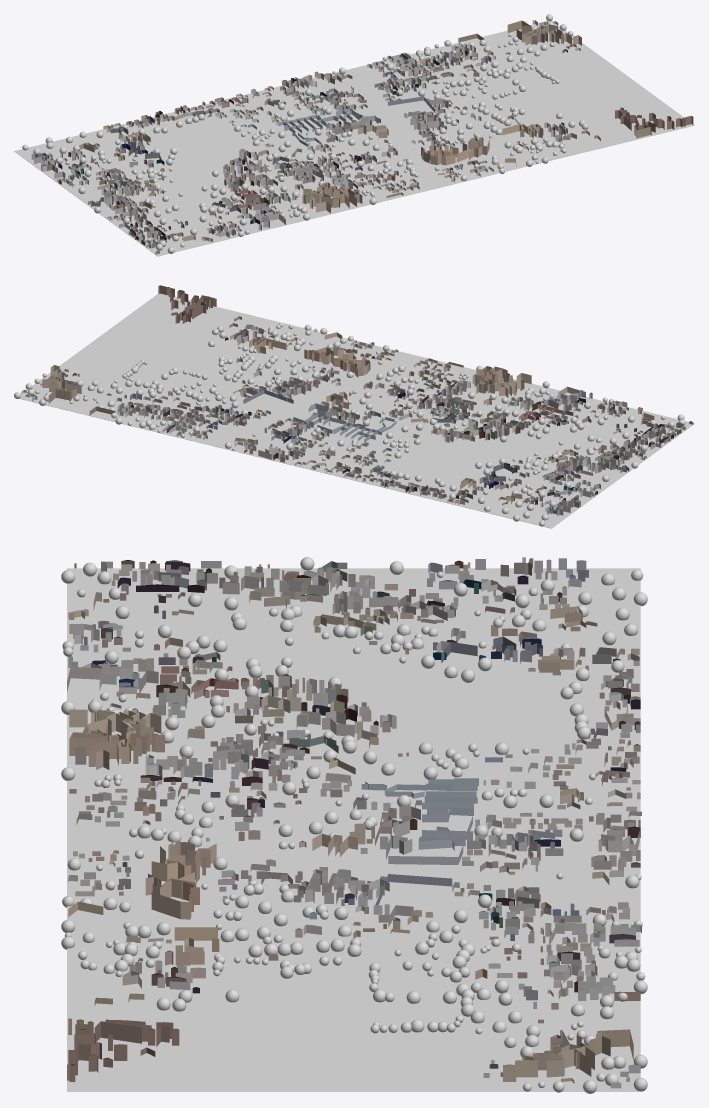
Rendered from scene_90ae3dff-bd14-4835-bc7f-17fc77a83aed.glb.
The picture shows the model from 3 angles, top to bottom: view 1: azimuth 30°, elevation 25°; view 2: azimuth 150°, elevation 25°; view 3: azimuth 270°, elevation 25°; orthographic projection. The views are drawn at different scales.
Parts seen in each view (by area): view 1: Ground_Base; view 2: Ground_Base; view 3: Ground_Base.
Part boxes in pixels (x1,y1,x2,y2): Ground_Base: [14, 20, 694, 256]; Ground_Base: [19, 293, 694, 528]; Ground_Base: [67, 568, 640, 1091].
Bounding box in the file's own units: 1066 × 25.46 × 500.
